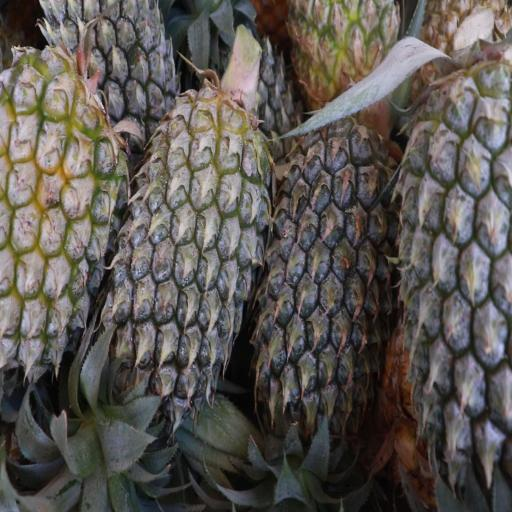------------------------------: (0, 57, 119, 363), (289, 0, 399, 113)
